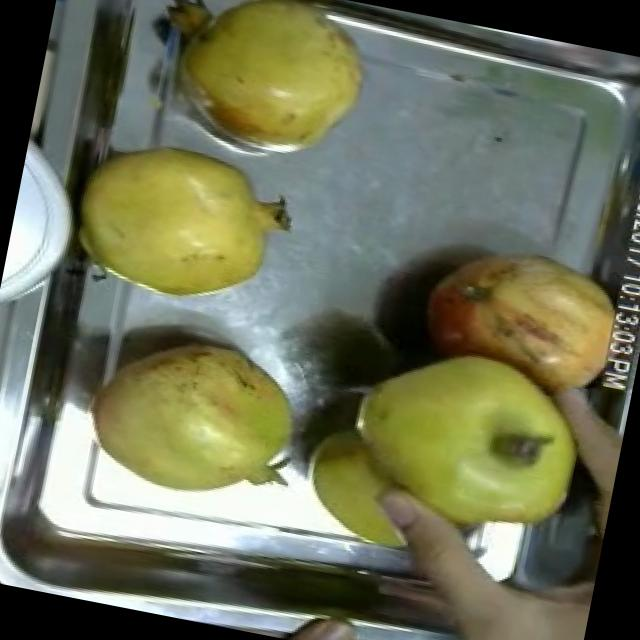fruit: (358, 326, 628, 582), (49, 110, 318, 330), (62, 311, 333, 524), (141, 0, 394, 179), (402, 225, 640, 406)
